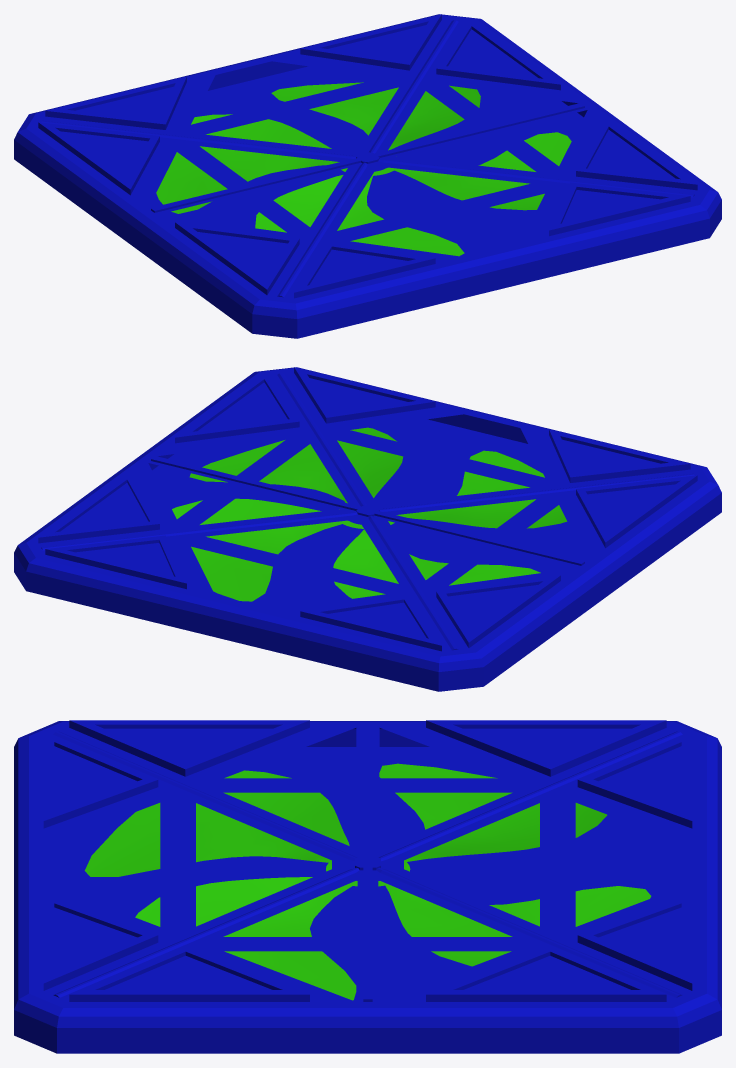
File: HeliceTrapAnimated.fbx
3 views of the same model, one above another, from view 1: azimuth 30°, elevation 25°; view 2: azimuth 150°, elevation 25°; view 3: azimuth 270°, elevation 25° (orthographic). The views are drawn at different scales.
Visible parts, largest first — view 1: Helice_Base, Helice_Mesh; view 2: Helice_Base, Helice_Mesh; view 3: Helice_Base, Helice_Mesh.
Part boxes in pixels (<box>): Helice_Base: <box>14,14,721,338</box>; Helice_Mesh: <box>156,82,571,256</box>; Helice_Base: <box>14,367,721,691</box>; Helice_Mesh: <box>172,427,567,601</box>; Helice_Base: <box>14,720,721,1053</box>; Helice_Mesh: <box>84,763,651,1000</box>.
Size of the model in its own units: 78.74 by 5.73 by 78.74.
